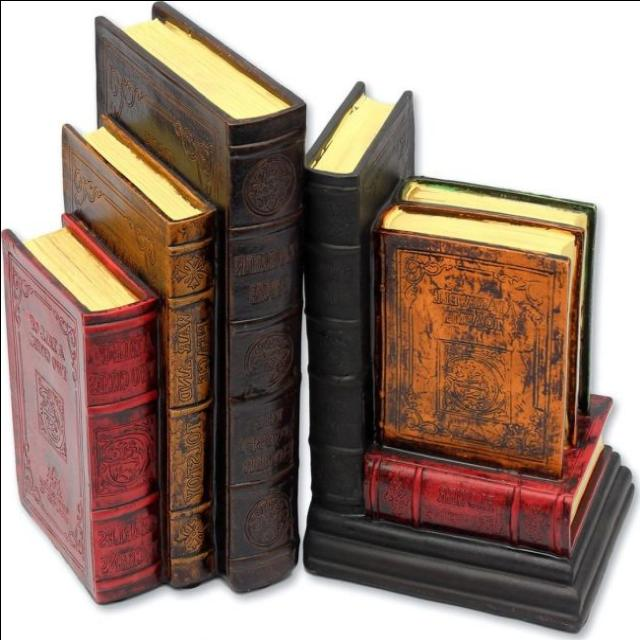book: (0, 208, 166, 616), (368, 199, 592, 465)
